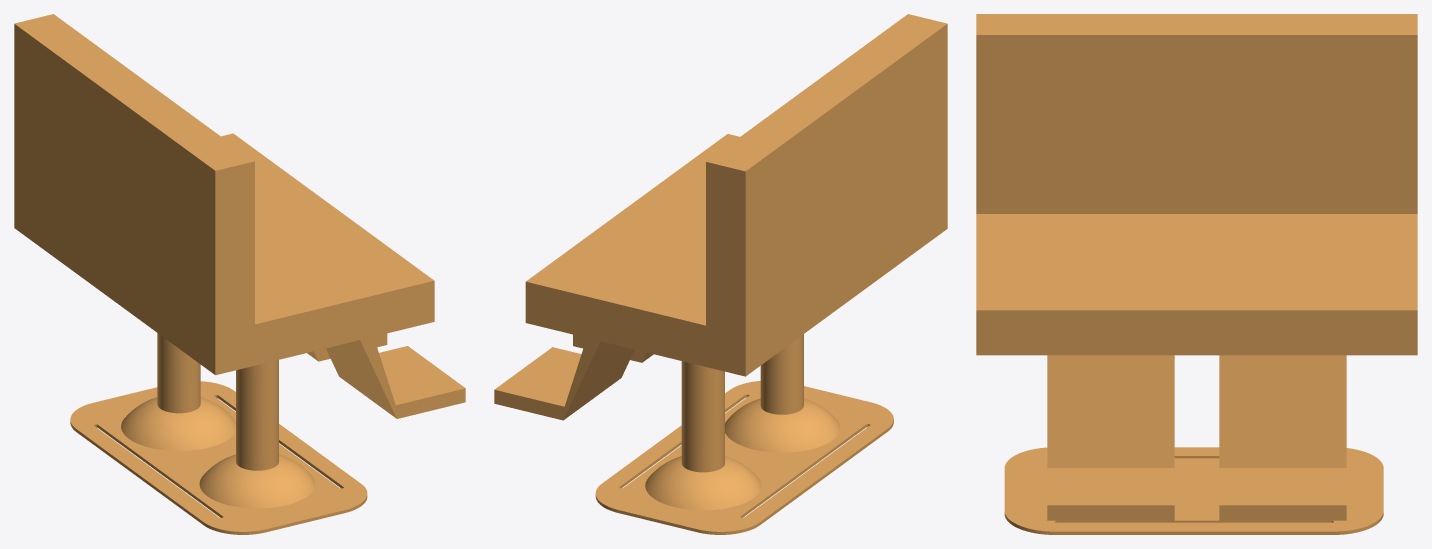
File: OUTFITTING_INTERIOR__helm seat.glb
The picture shows the model from 3 angles, left to right: view 1: azimuth 30°, elevation 25°; view 2: azimuth 150°, elevation 25°; view 3: azimuth 270°, elevation 25°; orthographic projection. The views are drawn at different scales.
Parts seen in each view (by area): view 1: helm seat; view 2: helm seat; view 3: helm seat.
Boxes of the visible parts, x1,y1,x2,y2 form: helm seat: [14, 14, 465, 534]; helm seat: [494, 14, 947, 534]; helm seat: [976, 14, 1417, 534].
Bounding box in the file's own units: 0.9116 × 1.19 × 1.12.
